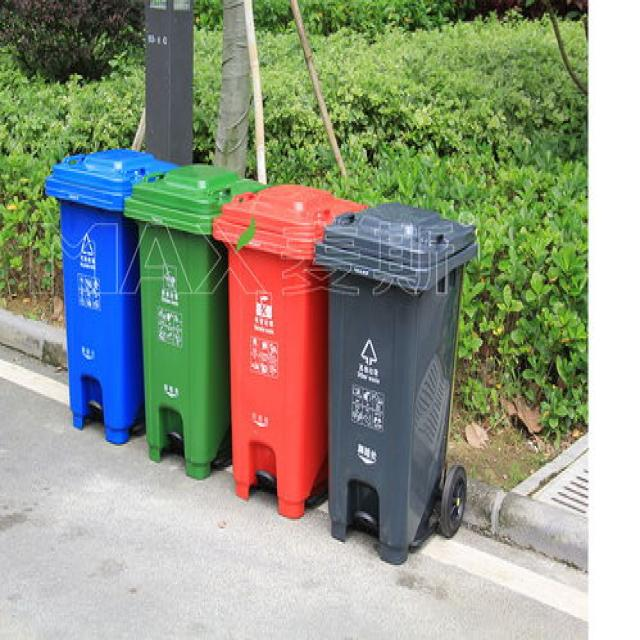garbage_bin: (314, 204, 480, 565), (210, 183, 368, 519), (122, 162, 272, 478), (44, 148, 175, 440)
